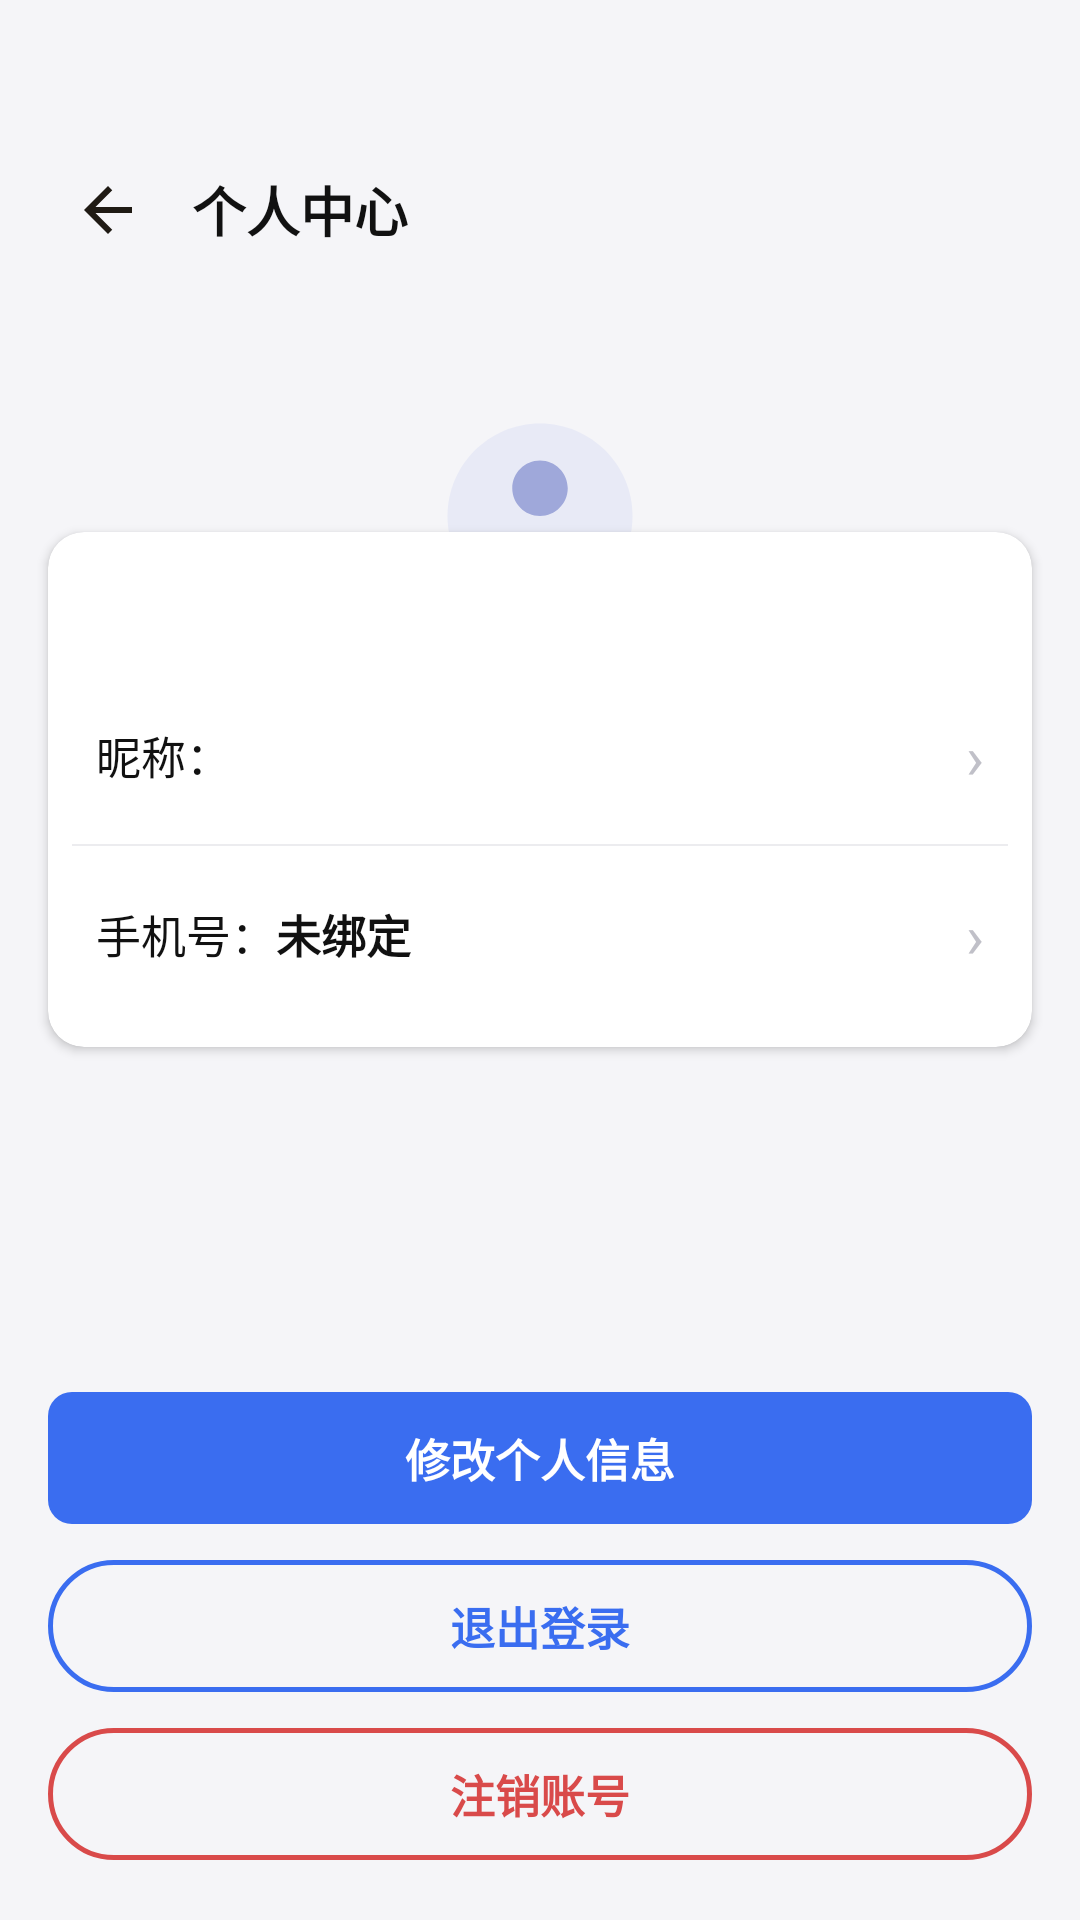

Named icons in this screenshot (1080x1920) and their bounding boxes, bbox=[x1, y1, x2, y2]:
返回: bbox=[84, 186, 132, 234]
